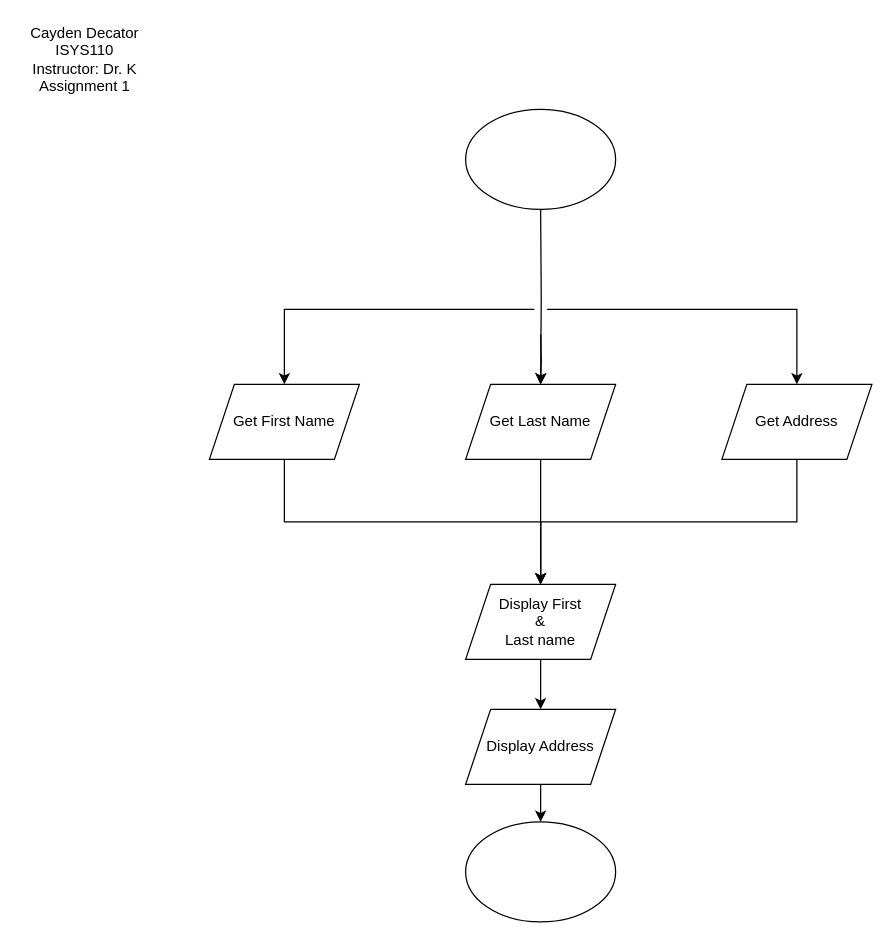
The diagram is 894 pixels wide and 944 high, and some of its shapes have lost their labels. Each missing label, with the centre of its shape:
"End" belongs at (540,871).
"Start" belongs at (540,158).
